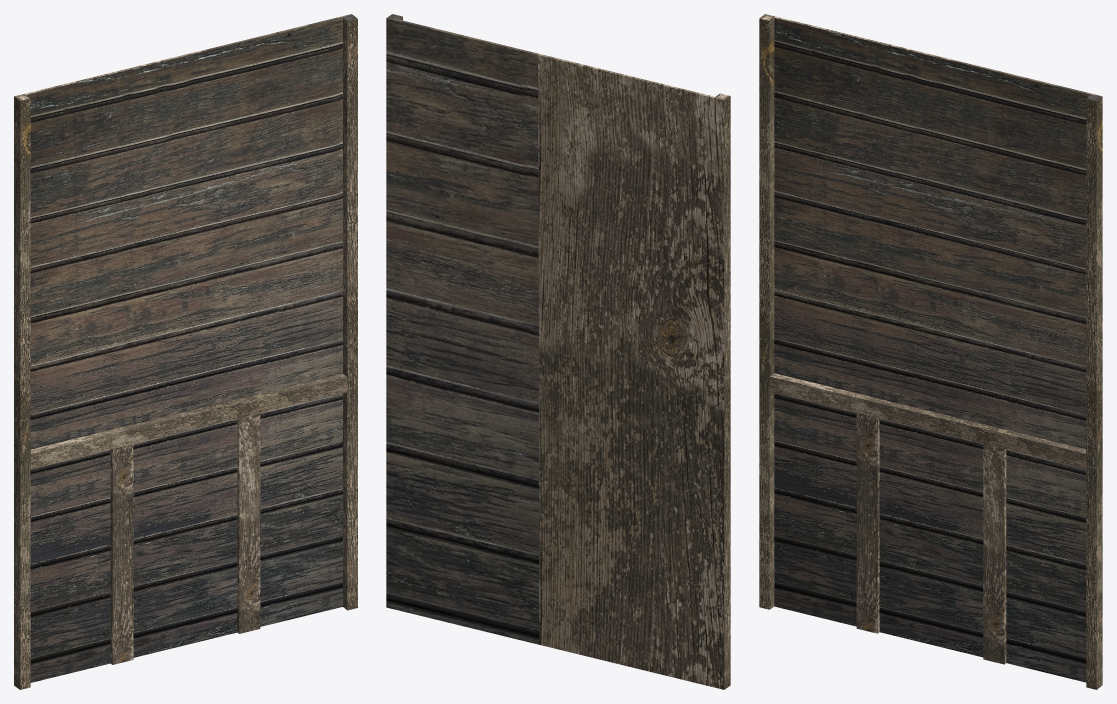
The model's file is gaiheki_wall.fbx.
3 renders of one model, left to right at view 1: azimuth 30°, elevation 25°; view 2: azimuth 150°, elevation 25°; view 3: azimuth 330°, elevation 25°, orthographic.
Parts seen in each view (by area): view 1: GaihekiWall; view 2: GaihekiWall; view 3: GaihekiWall.
Part boxes in pixels (x1,y1,x2,y2): GaihekiWall: [14, 14, 357, 689]; GaihekiWall: [386, 14, 730, 689]; GaihekiWall: [759, 14, 1102, 689].
Size of the model in its own units: 300 by 500 by 9.38.
